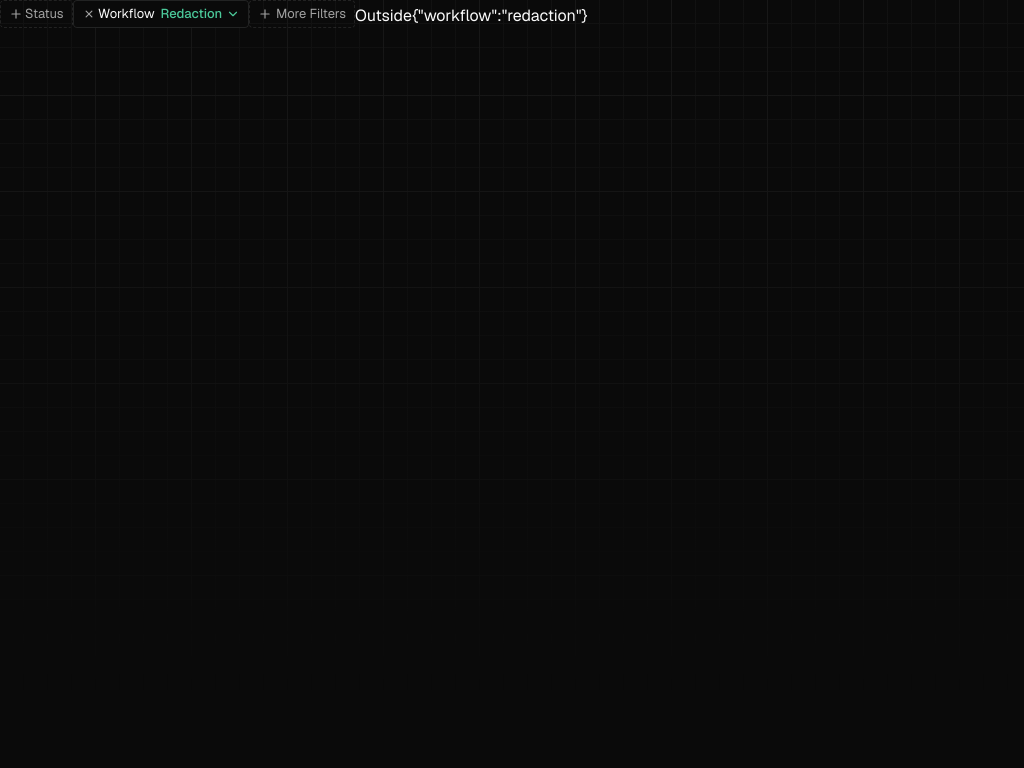
Test: More Filters menu (SPEC §7) › marks applied filters with their summary
Click the button "More Filters".
click(302, 14)  # box [249,0,355,28]
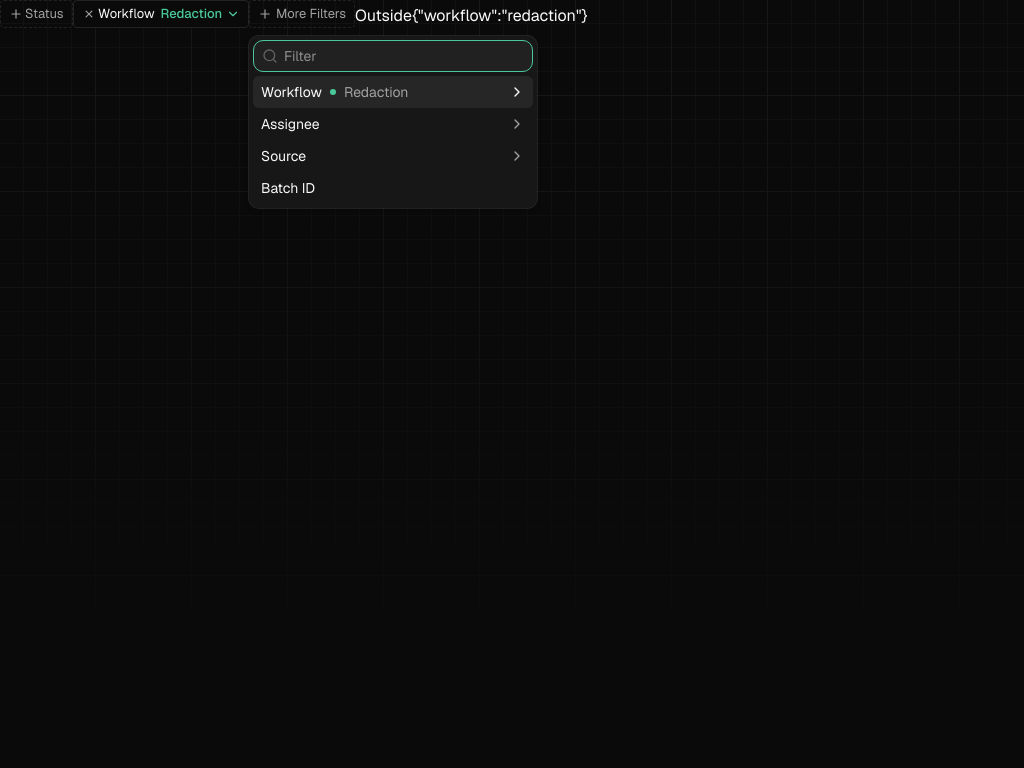
Expected: the option "Assignee" does not show "(applied)", [261,115,525,133]
Result: the option "Workflow Redaction" is shown at [253,76,533,108]
